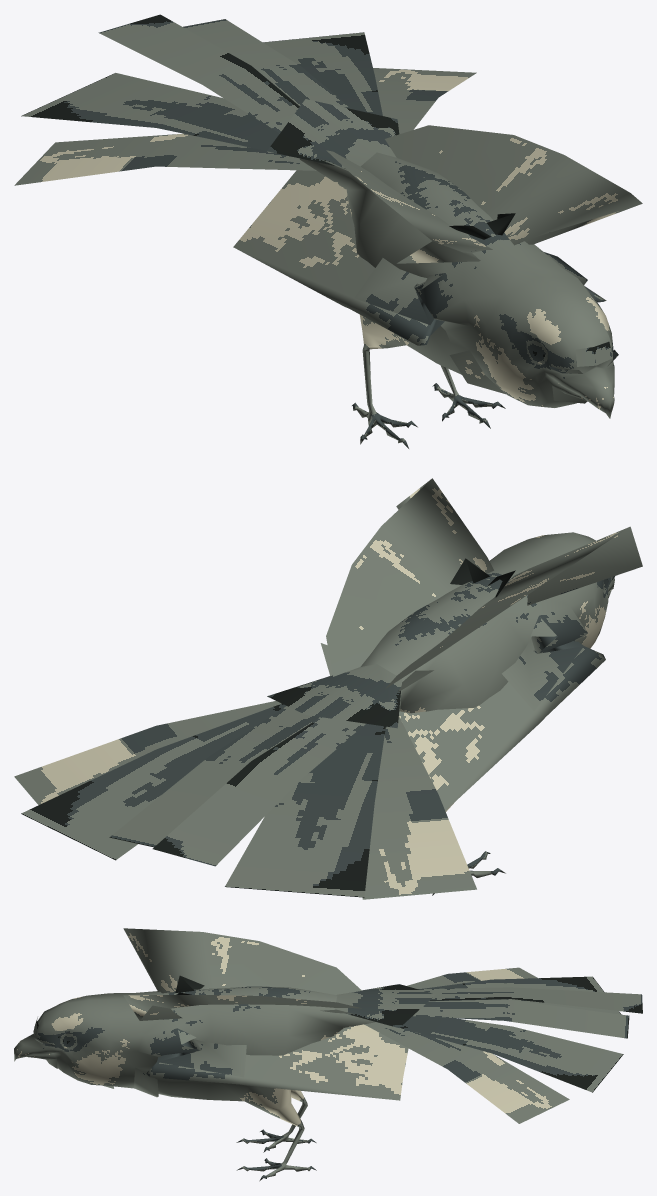
Rendered from bird-grey-wing.glb.
3 views of the same model, one above another, from view 1: azimuth 30°, elevation 25°; view 2: azimuth 150°, elevation 25°; view 3: azimuth 270°, elevation 25° (orthographic). The views are drawn at different scales.
Visible parts, largest first — view 1: bird-grey-wing runtime mesh; view 2: bird-grey-wing runtime mesh; view 3: bird-grey-wing runtime mesh.
Boxes of the visible parts, left/top/right/bottom form: bird-grey-wing runtime mesh: left=14, top=14, right=642, bottom=448; bird-grey-wing runtime mesh: left=14, top=478, right=642, bottom=899; bird-grey-wing runtime mesh: left=14, top=928, right=642, bottom=1181.
Size of the model in its own units: 0.3956 by 0.23 by 0.6715.
Materials: 1 (1 with a texture image).
